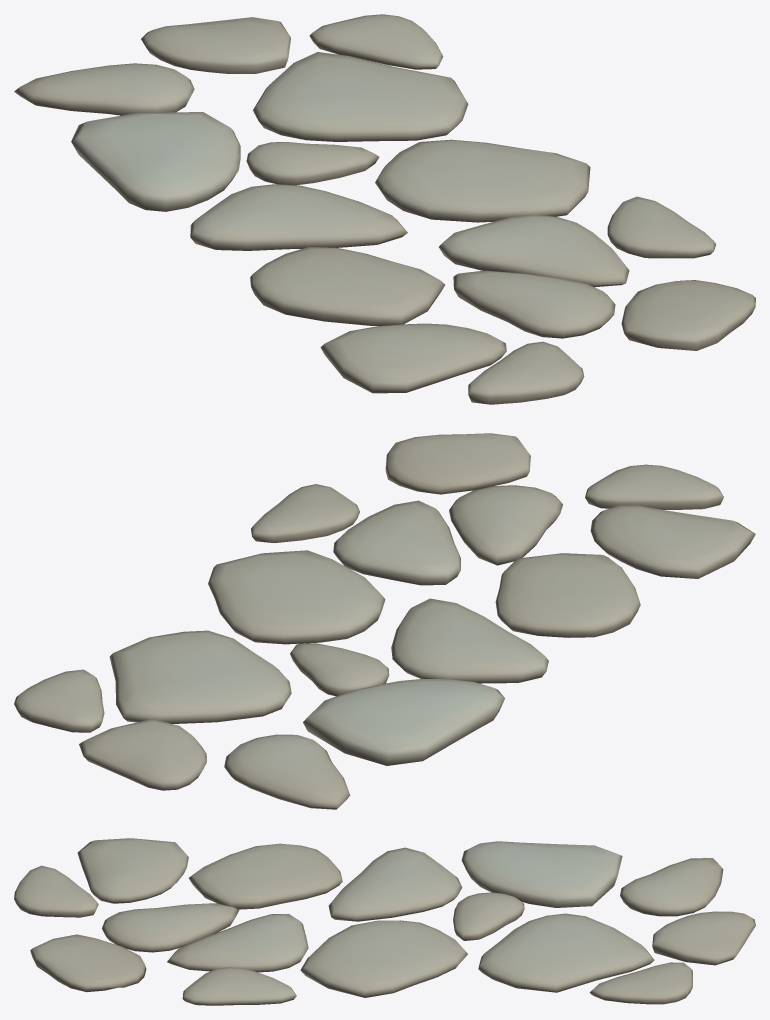
The picture shows the model from 3 angles, top to bottom: view 1: azimuth 30°, elevation 25°; view 2: azimuth 150°, elevation 25°; view 3: azimuth 270°, elevation 25°; orthographic projection. The views are drawn at different scales.
Parts seen in each view (by area): view 1: Stone_road; view 2: Stone_road; view 3: Stone_road.
Boxes of the visible parts, x1,y1,x2,y2 form: Stone_road: [14, 14, 755, 404]; Stone_road: [14, 433, 755, 809]; Stone_road: [14, 838, 755, 1005].
Size of the model in its own units: 1.8 by 0.0959 by 3.52.
1 material, 1 textured.
